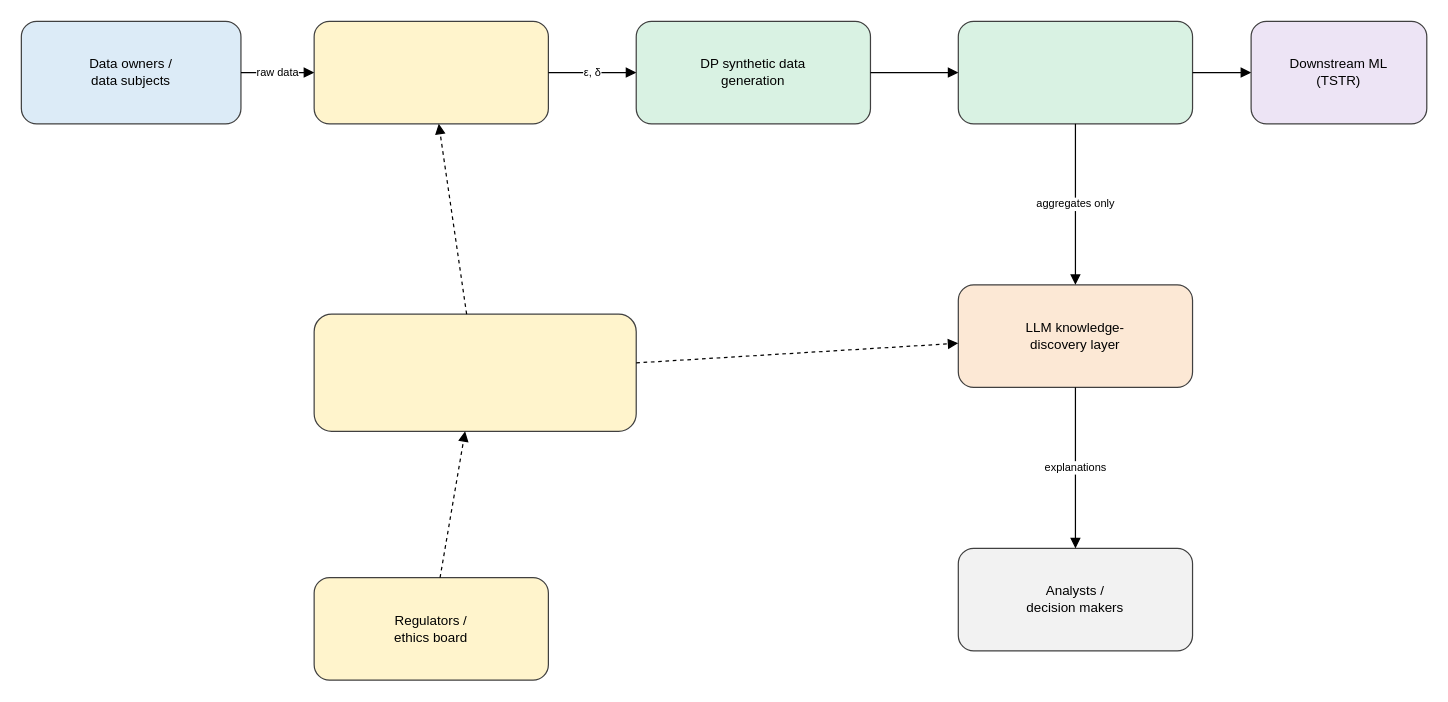
Image size: 1448x702. Some labels were removed from this diagram. Here are the shapes that lost their labels. From the top down, the centre of each, then its label:
At pixel 430 72: "Data custodian (trusted curator)".
At pixel 1075 72: "Released DP synthetic dataset".
At pixel 474 372: "Governance: budget ledger, audit log, policy, DPIA".
